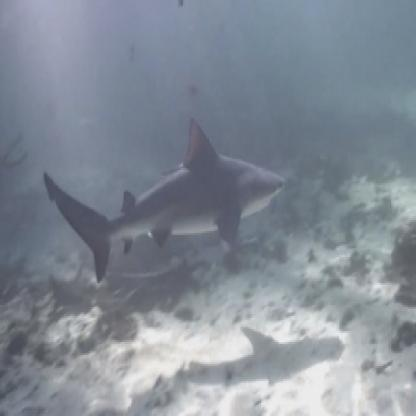shark: (39, 118, 289, 290)
